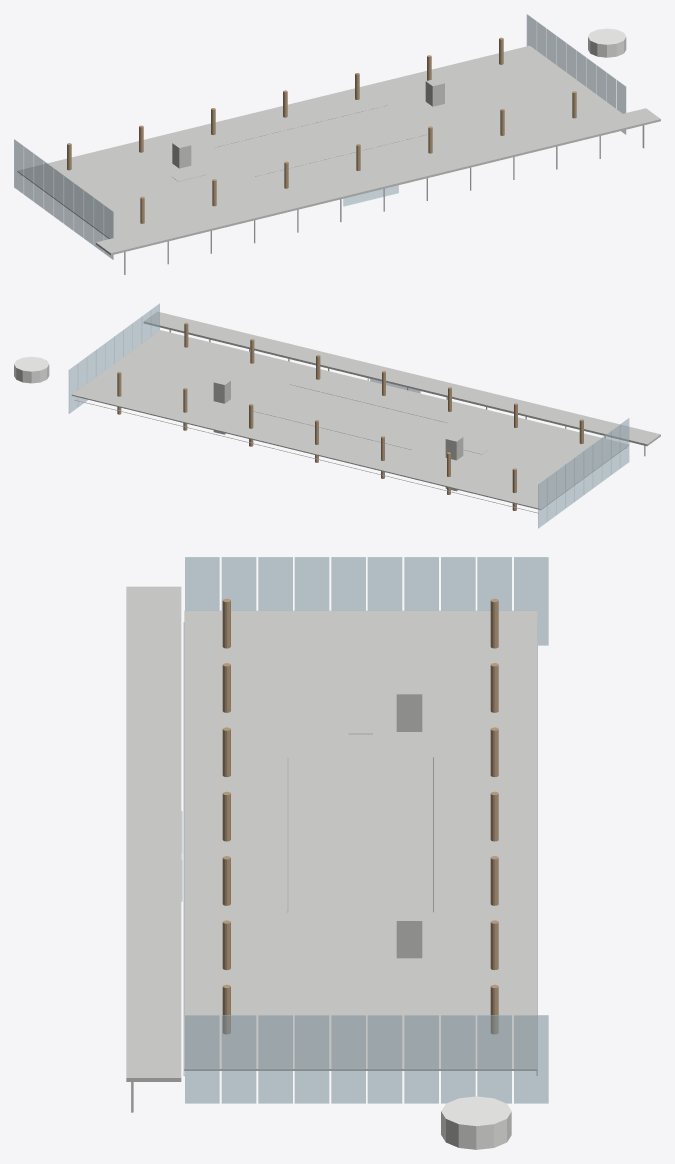
File: level-01.glb
3 views of the same model, one above another, from view 1: azimuth 30°, elevation 25°; view 2: azimuth 150°, elevation 25°; view 3: azimuth 270°, elevation 25° (orthographic). The views are drawn at different scales.
Parts seen in each view (by area): view 1: concrete, glass, timber, tower, steel; view 2: concrete, glass, timber, steel, tower; view 3: concrete, glass, timber, tower, steel.
Boxes of the visible parts, left/top/right/bottom form: concrete: left=17, top=45, right=660, bottom=274; glass: left=14, top=14, right=626, bottom=259; timber: left=67, top=37, right=576, bottom=223; tower: left=588, top=28, right=626, bottom=57; steel: left=215, top=105, right=428, bottom=176; concrete: left=72, top=312, right=660, bottom=509; glass: left=68, top=303, right=629, bottom=528; timber: left=117, top=322, right=583, bottom=510; steel: left=74, top=384, right=626, bottom=513; tower: left=14, top=356, right=49, bottom=383; concrete: left=126, top=586, right=537, bottom=1112; glass: left=181, top=557, right=548, bottom=1103; timber: left=222, top=598, right=498, bottom=1034; tower: left=441, top=1096, right=511, bottom=1149; steel: left=183, top=622, right=537, bottom=1075.
Bounding box in the file's own units: 211 × 20.9 × 69.35.
